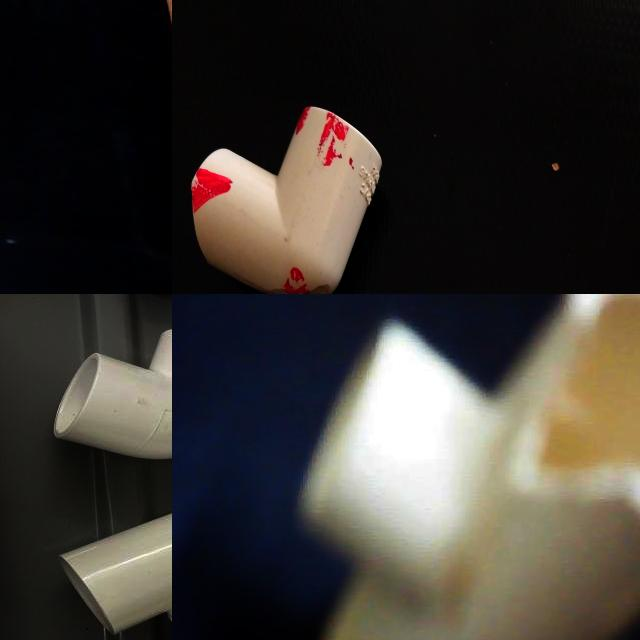Defective: (526, 294, 640, 542), (472, 150, 540, 218), (453, 4, 515, 63)
L Joint: (388, 0, 540, 253), (52, 329, 172, 463)
T Joint: (294, 294, 640, 640), (58, 513, 172, 635)
